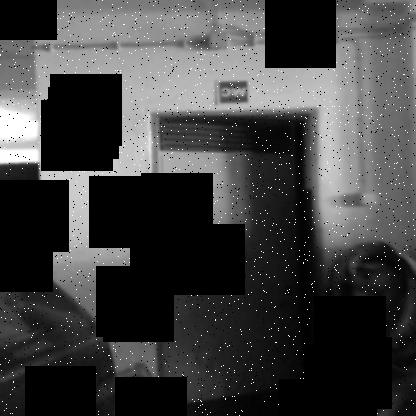Porte: (150, 106, 328, 415)
